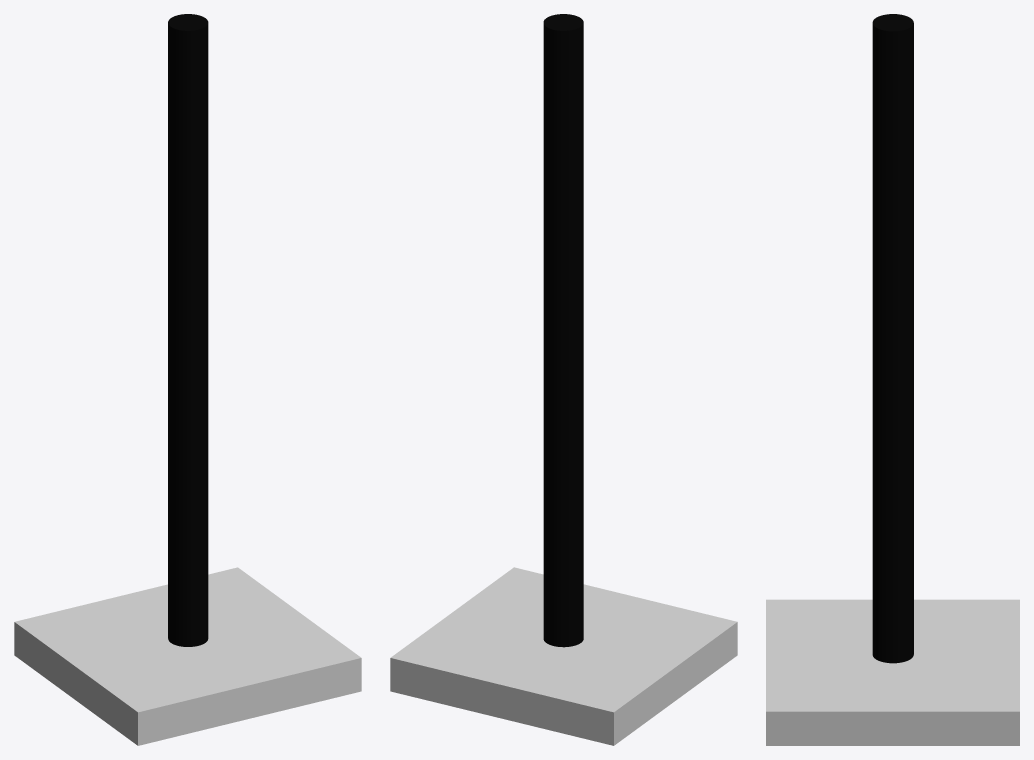
Rendered from lamp.gltf.
3 views of the same model, side by side, from view 1: azimuth 30°, elevation 25°; view 2: azimuth 150°, elevation 25°; view 3: azimuth 270°, elevation 25° (orthographic). The views are drawn at different scales.
Visible parts, largest first — view 1: Cube, Cilindro; view 2: Cube, Cilindro; view 3: Cube, Cilindro.
Part boxes in pixels (left/top/right/bottom): Cube: left=14, top=567, right=361, bottom=745; Cilindro: left=168, top=14, right=208, bottom=646; Cube: left=390, top=567, right=737, bottom=745; Cilindro: left=543, top=14, right=583, bottom=647; Cube: left=766, top=599, right=1019, bottom=745; Cilindro: left=872, top=14, right=913, bottom=663.
Size of the model in its own units: 0.9106 by 2.53 by 0.8729.
1 material, 1 textured.
